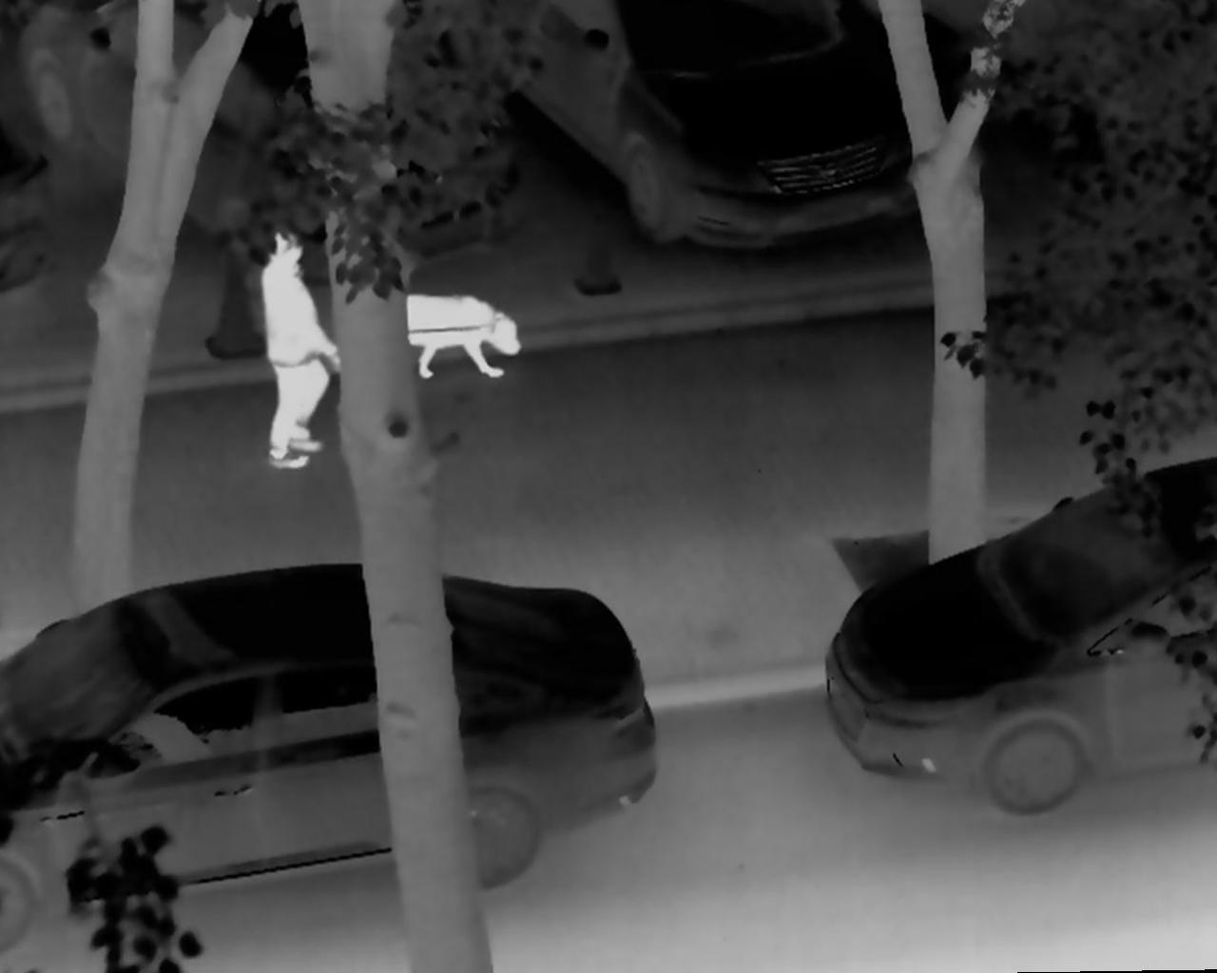person: (257, 227, 342, 472)
